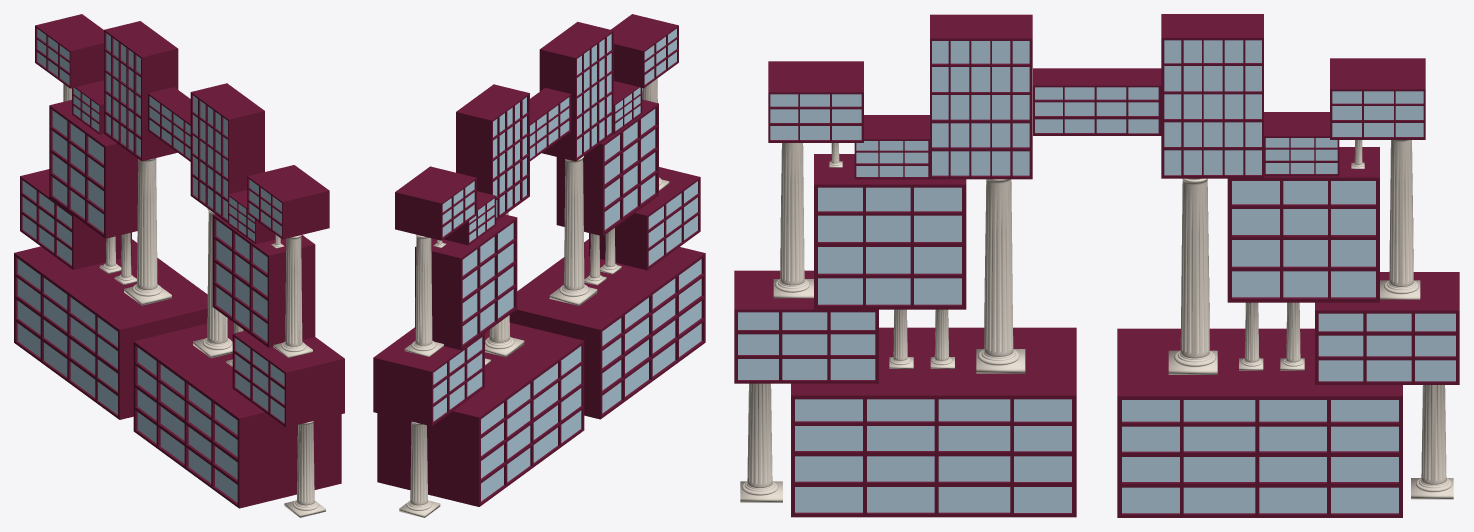
The model's file is building_example.fbx.
3 renders of one model, left to right at view 1: azimuth 30°, elevation 25°; view 2: azimuth 150°, elevation 25°; view 3: azimuth 270°, elevation 25°, orthographic. The views are drawn at different scales.
Visible parts, largest first — view 1: Cube.017, Cube.024, Cube.015, Cube.022, Cube.016, Cube.010, Cube.020, Cube.023, Cube.018, Cube.025, 3.009, Cube.019 (+7 smaller); view 2: Cube.024, Cube.017, Cube.022, Cube.015, Cube.020, Cube.023, Cube.010, Cube.016, Cube.025, Cube.018, 3.003, Cube.019 (+7 smaller); view 3: Cube.017, Cube.024, Cube.015, Cube.022, Cube.010, Cube.020, Cube.023, Cube.016, Cube.019, Cube.018, Cube.025, 3.009 (+11 smaller).
Boxes of the visible parts, bbox=[...] form: Cube.017: bbox=[133, 318, 341, 508]; Cube.024: bbox=[14, 239, 207, 419]; Cube.015: bbox=[212, 214, 315, 347]; Cube.022: bbox=[49, 100, 138, 238]; Cube.016: bbox=[232, 331, 344, 427]; Cube.010: bbox=[190, 83, 264, 222]; Cube.020: bbox=[104, 21, 178, 161]; Cube.023: bbox=[20, 169, 131, 269]; Cube.018: bbox=[247, 165, 329, 239]; Cube.025: bbox=[35, 14, 103, 88]; 3.009: bbox=[124, 158, 171, 305]; Cube.019: bbox=[148, 87, 190, 161]; Cube.024: bbox=[377, 322, 584, 506]; Cube.017: bbox=[509, 239, 705, 419]; Cube.022: bbox=[415, 214, 517, 350]; Cube.015: bbox=[556, 99, 658, 236]; Cube.020: bbox=[456, 84, 529, 220]; Cube.023: bbox=[373, 327, 484, 426]; Cube.010: bbox=[539, 21, 613, 161]; Cube.016: bbox=[589, 167, 700, 270]; Cube.025: bbox=[395, 166, 476, 240]; Cube.018: bbox=[611, 14, 678, 88]; 3.003: bbox=[549, 156, 597, 305]; Cube.019: bbox=[530, 87, 571, 161]; Cube.017: bbox=[791, 327, 1076, 517]; Cube.024: bbox=[1117, 328, 1402, 517]; Cube.015: bbox=[814, 154, 966, 309]; Cube.022: bbox=[1227, 147, 1379, 302]; Cube.010: bbox=[930, 14, 1032, 179]; Cube.020: bbox=[1161, 14, 1263, 178]; Cube.023: bbox=[1315, 272, 1459, 384]; Cube.016: bbox=[734, 270, 878, 383]; Cube.019: bbox=[1033, 68, 1161, 135]; Cube.018: bbox=[768, 61, 863, 142]; Cube.025: bbox=[1330, 58, 1425, 139]; 3.009: bbox=[1168, 178, 1217, 374].
Size of the model in its own units: 3410 by 10918 by 15278.
